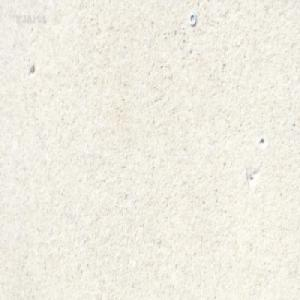Washer: (188, 12, 196, 26)
